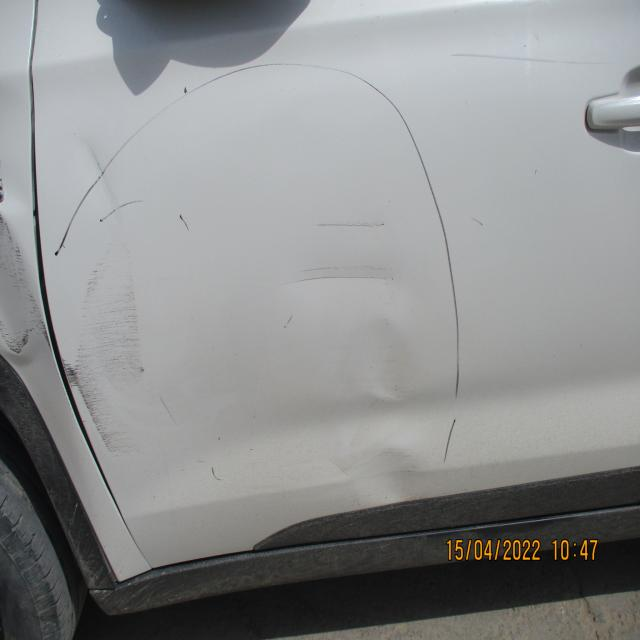damage: (53, 120, 454, 558), (0, 162, 42, 391)
